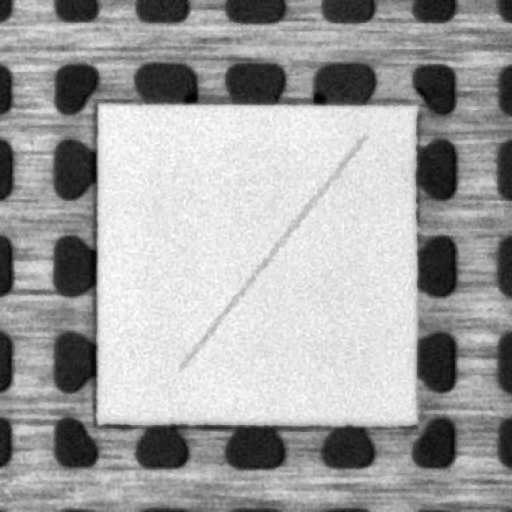DIE_CRACK: (180, 132, 366, 366)
